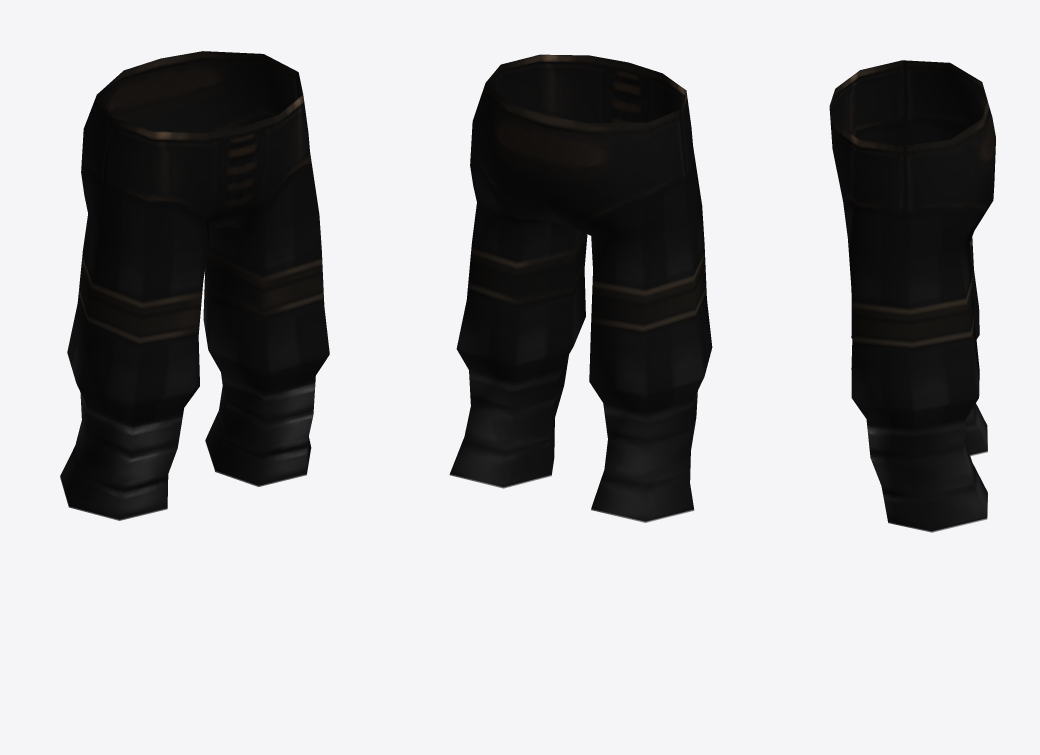
Rendered from hum_hunter_01_e52617ed.glb.
3 views of the same model, side by side, from view 1: azimuth 30°, elevation 25°; view 2: azimuth 150°, elevation 25°; view 3: azimuth 270°, elevation 25° (orthographic). The views are drawn at different scales.
Size of the model in its own units: 0.823 by 1.43 by 0.4987.
Materials: 1 (1 with a texture image).
